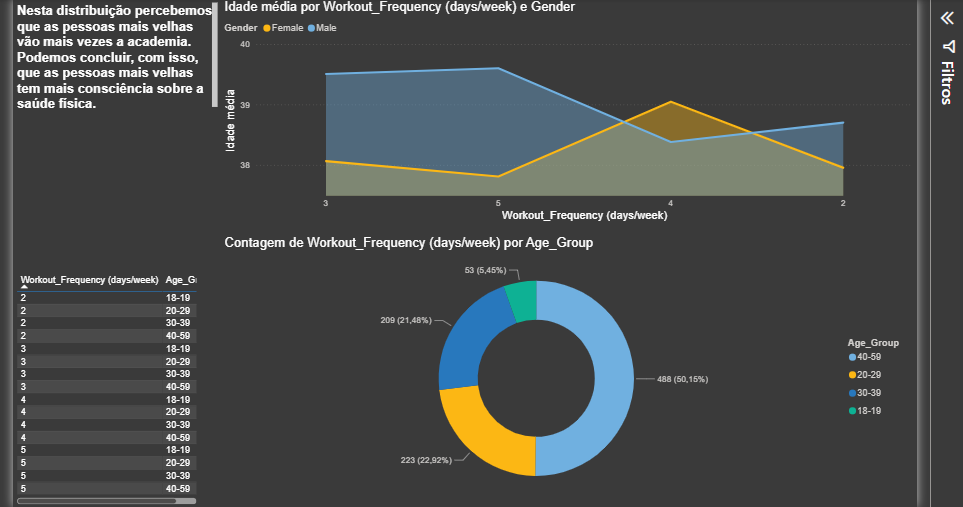

Layout of this report page (visuals, bound fields, positions):
{"tool":"powerbi","page":{"name":"NTreinos Semana/Idade","canvas":[1280,720],"ordinal":3},"visuals":[{"type":"tableEx","fields":{"Values":["gym_members_exercise_tracking.Workout_Frequency (days/week)","gym_members_exercise_tracking.Age_Group"]},"box":[0,383.6,265.4,336.7],"z":0},{"type":"donutChart","fields":{"Category":["gym_members_exercise_tracking.Age_Group"],"Y":["CountNonNull(gym_members_exercise_tracking.Workout_Frequency (days/week))"]},"box":[295.3,334.5,984.7,385.2],"z":1000},{"type":"areaChart","fields":{"Category":["gym_members_exercise_tracking.Workout_Frequency (days/week)"],"Y":["gym_members_exercise_tracking.Idade média"],"Series":["gym_members_exercise_tracking.Gender"]},"box":[295.3,0,984.7,320.2],"z":2000},{"type":"textbox","box":[0,0,295.1,160.5],"z":3000}]}

Visuals, with their boxes on the page's 1280x720 design canvas (x1, y1, x2, y2). These are canvas units, not pixel positions in the 963x507 screenshot, which may show the page scaled, cropped or inside an application window:
tableEx - gym_members_exercise_tracking.Workout_Frequency (days/week) x gym_members_exercise_tracking.Age_Group: l=0, t=384, r=265, b=720
donutChart - gym_members_exercise_tracking.Age_Group x CountNonNull(gym_members_exercise_tracking.Workout_Frequency (days/week)): l=295, t=334, r=1280, b=720
areaChart - gym_members_exercise_tracking.Workout_Frequency (days/week) x gym_members_exercise_tracking.Idade média: l=295, t=0, r=1280, b=320
textbox: l=0, t=0, r=295, b=160
